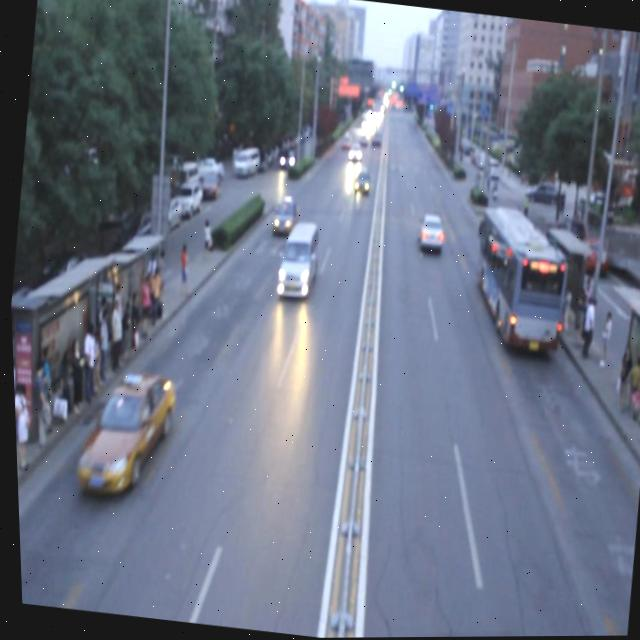car: (71, 362, 178, 501), (412, 210, 445, 253), (268, 193, 295, 233), (350, 168, 370, 197)
truck: (273, 220, 320, 300)
van: (462, 203, 572, 357)
